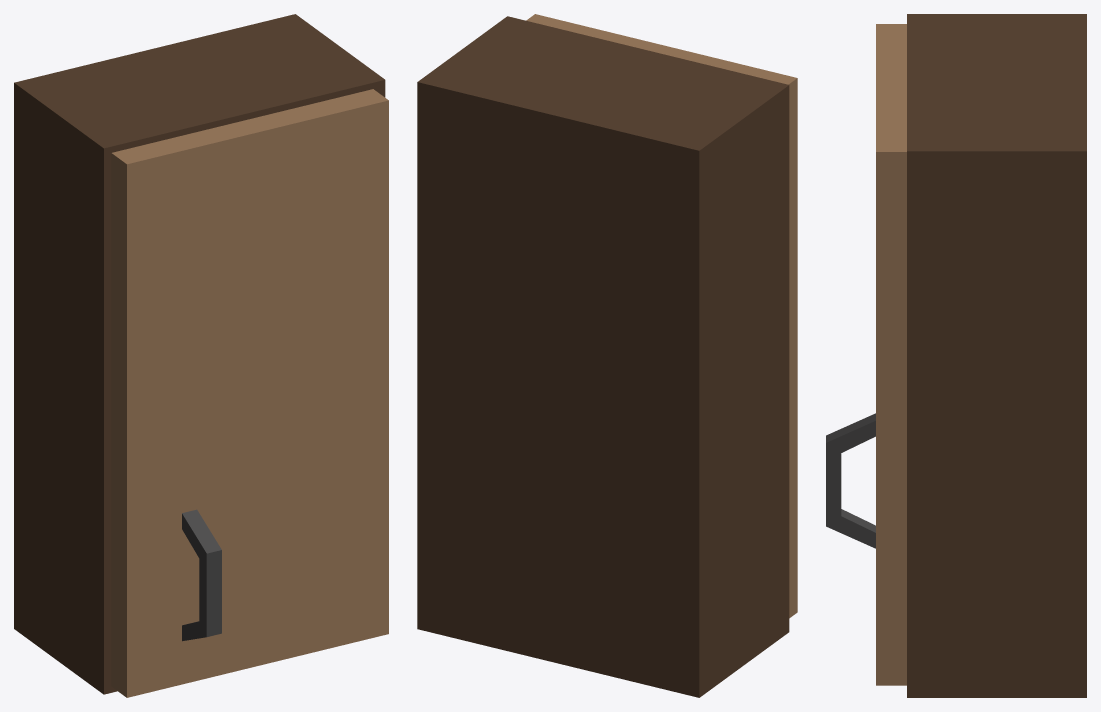
File: Cupboard_2_4.fbx
The picture shows the model from 3 angles, left to right: view 1: azimuth 30°, elevation 25°; view 2: azimuth 150°, elevation 25°; view 3: azimuth 270°, elevation 25°; orthographic projection.
Parts seen in each view (by area): view 1: polySurface2231; view 2: polySurface2231; view 3: polySurface2231.
Part boxes in pixels (bbox=[...]): polySurface2231: bbox=[14, 14, 388, 697]; polySurface2231: bbox=[417, 14, 797, 697]; polySurface2231: bbox=[826, 14, 1086, 697].
Bounding box in the file's own units: 0.6303 × 1.17 × 0.5055.
1 material, 1 textured.
